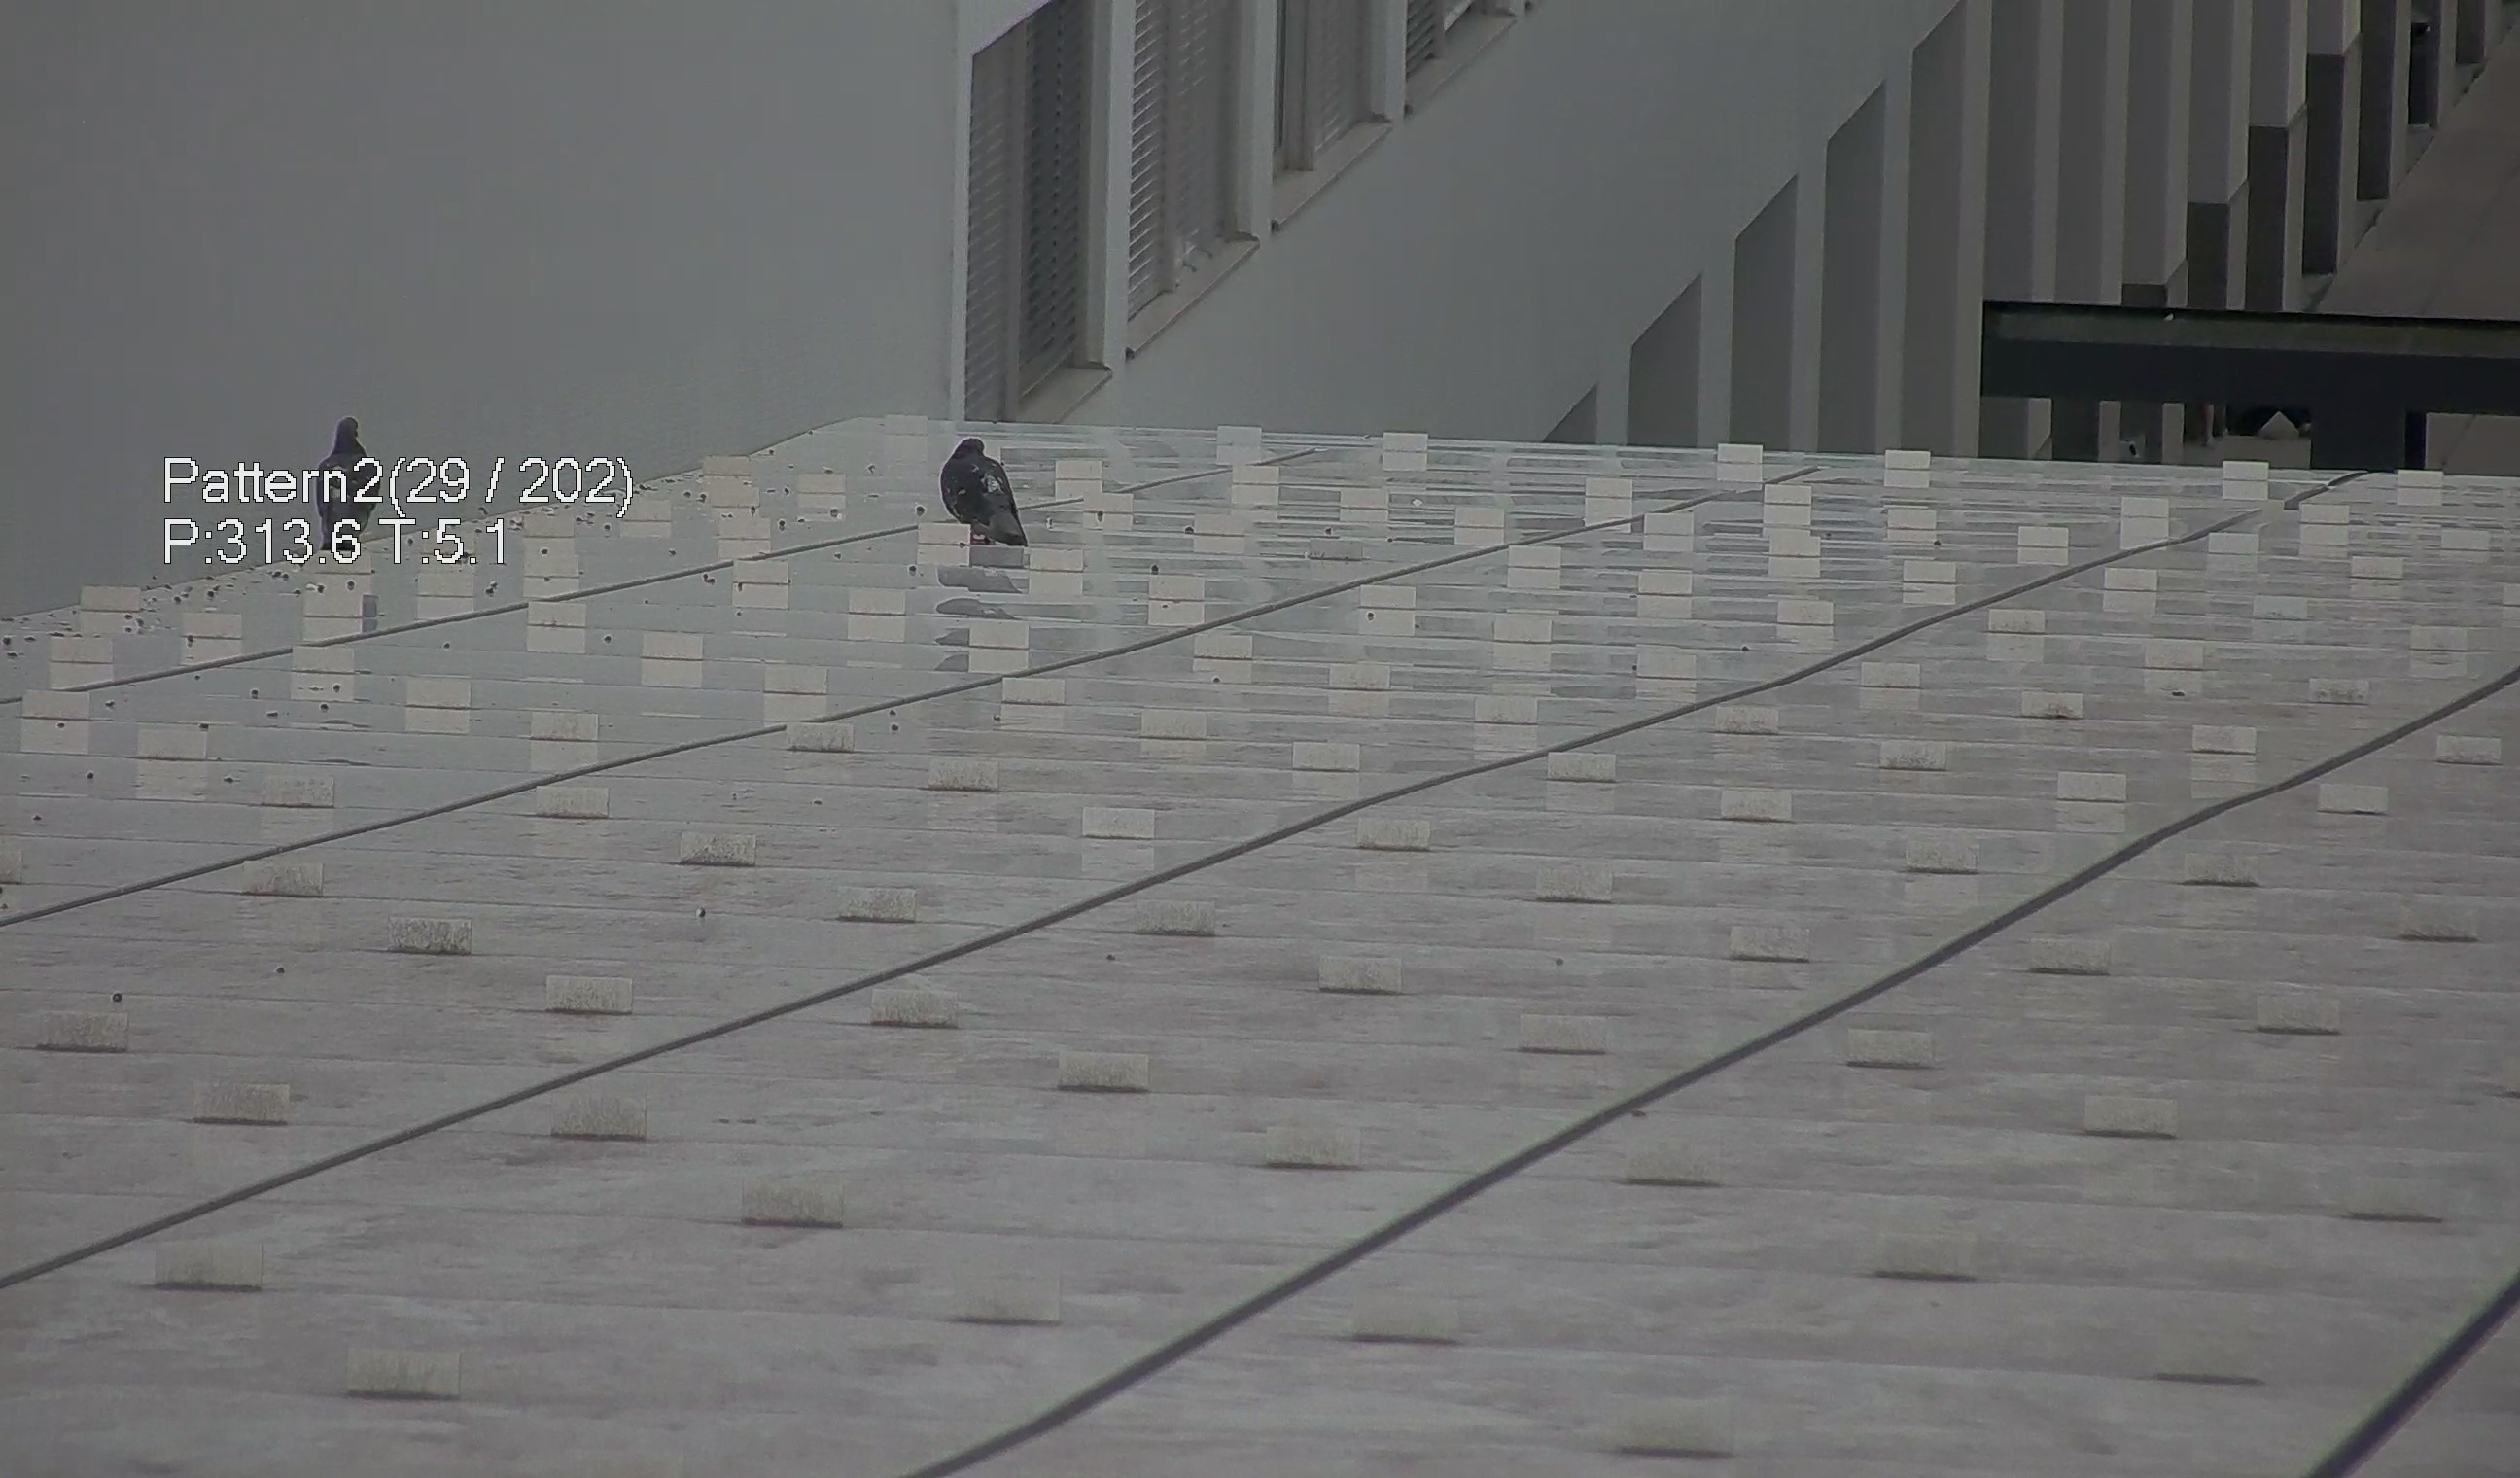Pigeon: (930, 426, 1029, 558), (304, 405, 382, 568)
